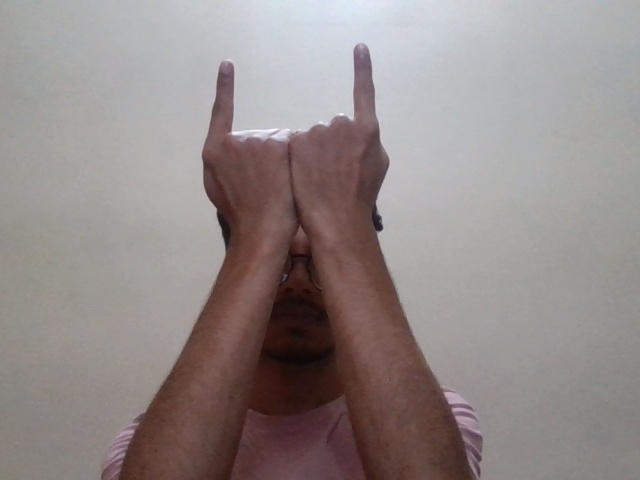when: (179, 41, 414, 235)
